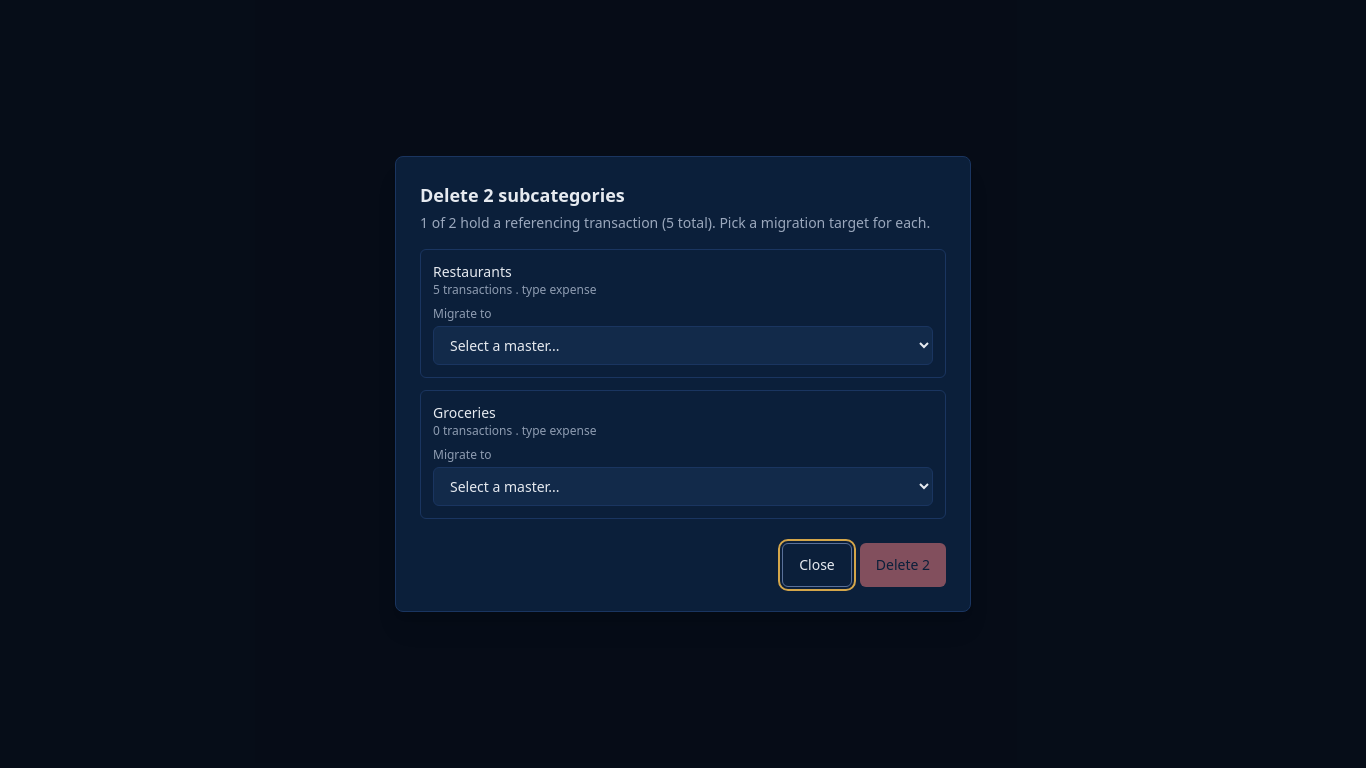
Test case: BatchDeleteModal target picker › submit is blocked until every row has a target picked
Expected: the button with test id "batch-delete-confirm" is disabled, [860,543,946,587]
Select "Lifestyle (expense)" in the dropdown with test id "batch-delete-target-101" at (683, 346), box [433,326,933,365]
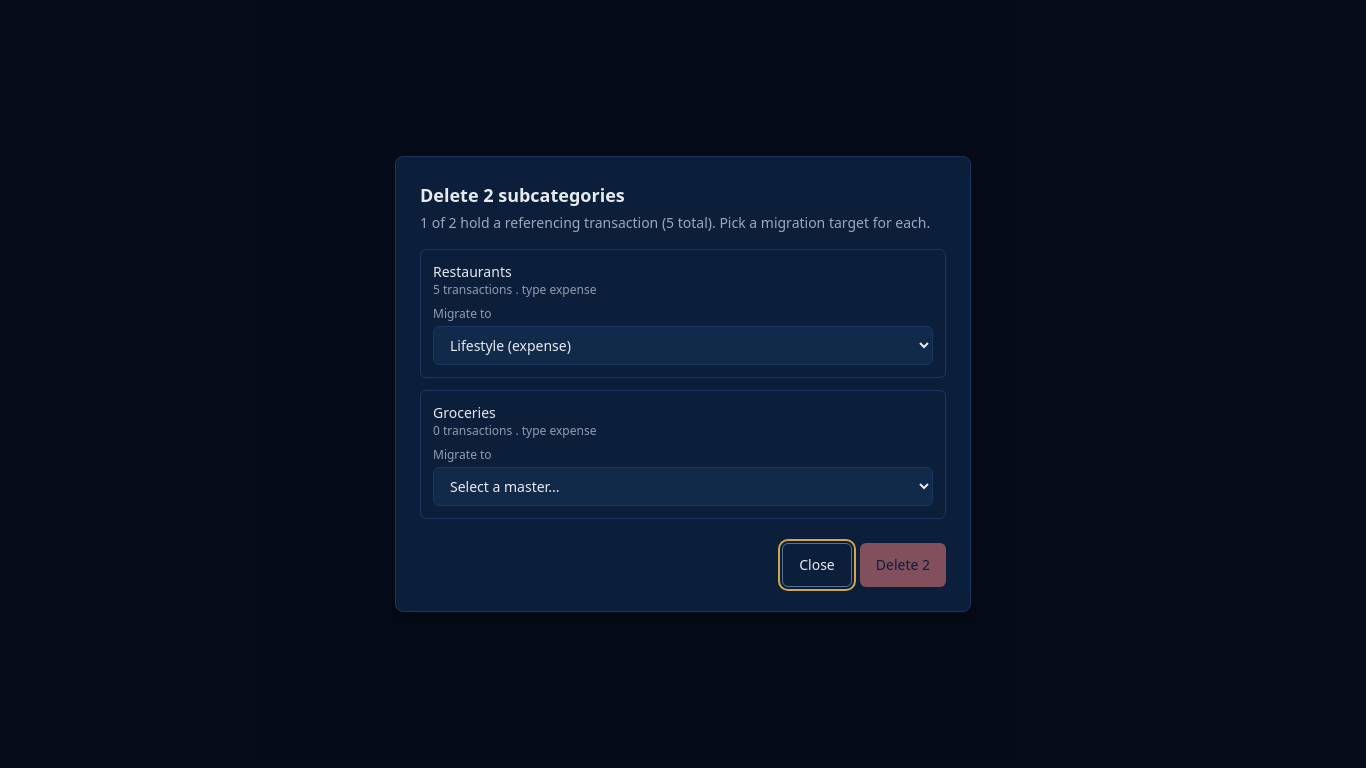
Expected: the button with test id "batch-delete-confirm" is disabled, [860,543,946,587]
Select "Lifestyle (expense)" in the dropdown with test id "batch-delete-target-102" at (683, 486), box [433,467,933,506]
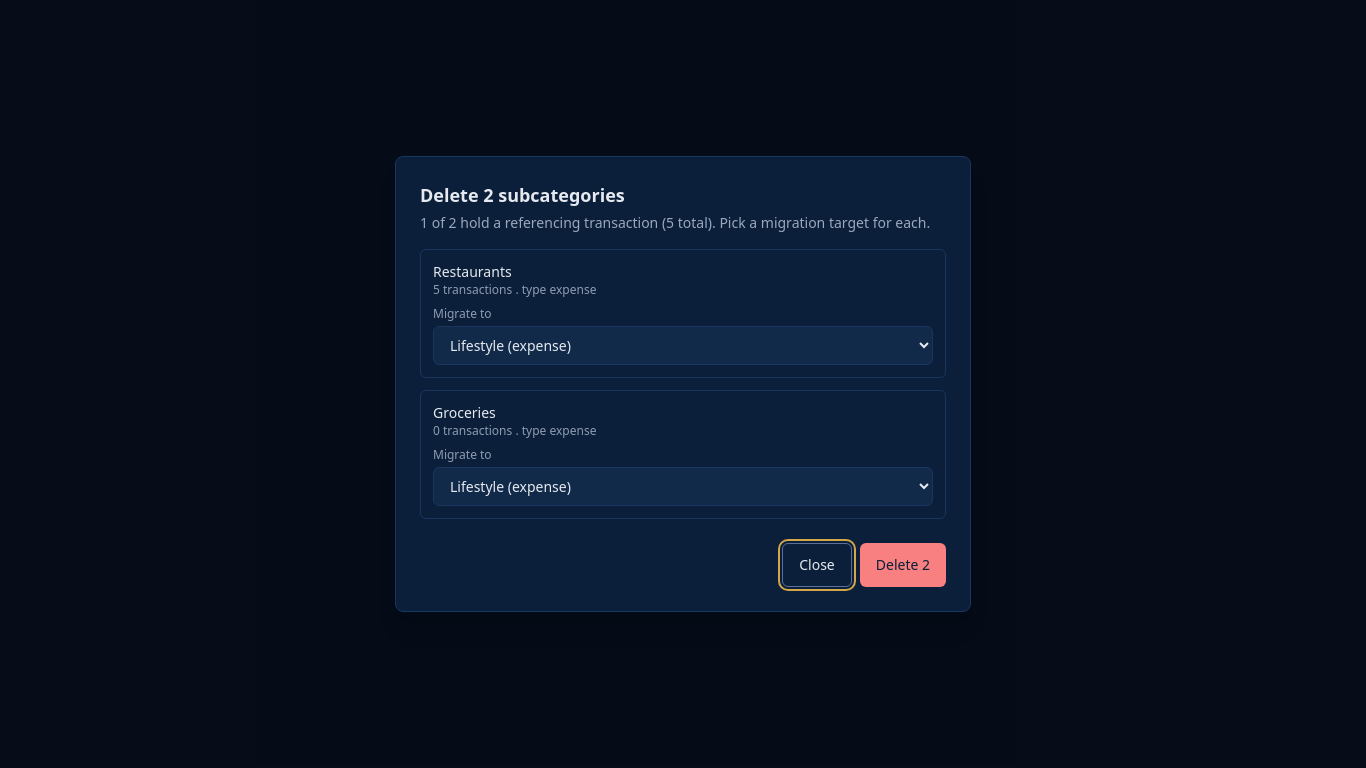
Now the button with test id "batch-delete-confirm" is enabled, box [860,543,946,587]
